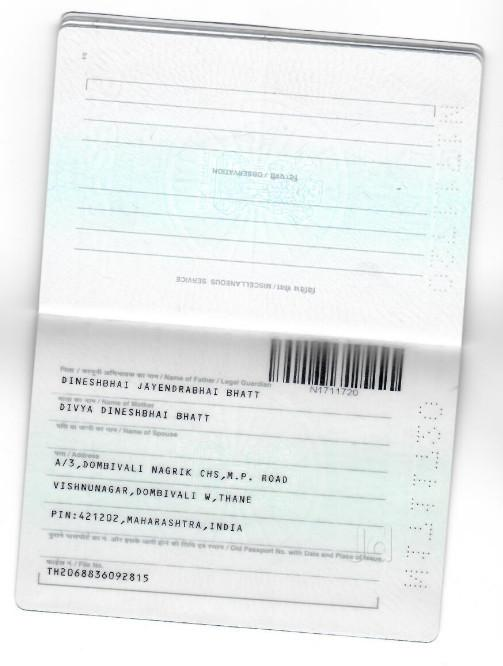File_no: (44, 566, 163, 587)
address: (40, 455, 294, 545)
father_name: (52, 373, 272, 407)
mother_name: (53, 399, 220, 429)
passport_no: (305, 381, 366, 403)
